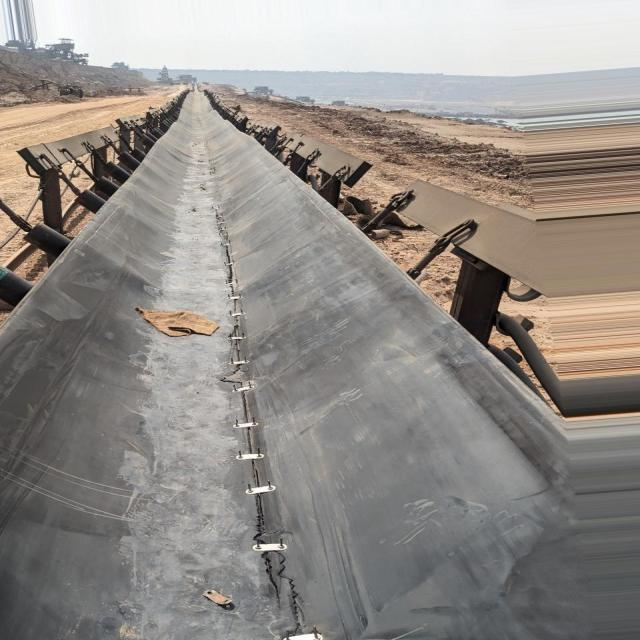Other Objects: (135, 307, 221, 337)
Roller: (77, 121, 164, 214), (23, 222, 77, 256), (0, 264, 35, 309)
patch work: (215, 249, 335, 640)
